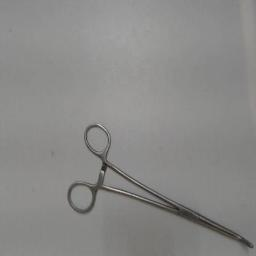Lahey Forceps: (63, 117, 255, 253)
